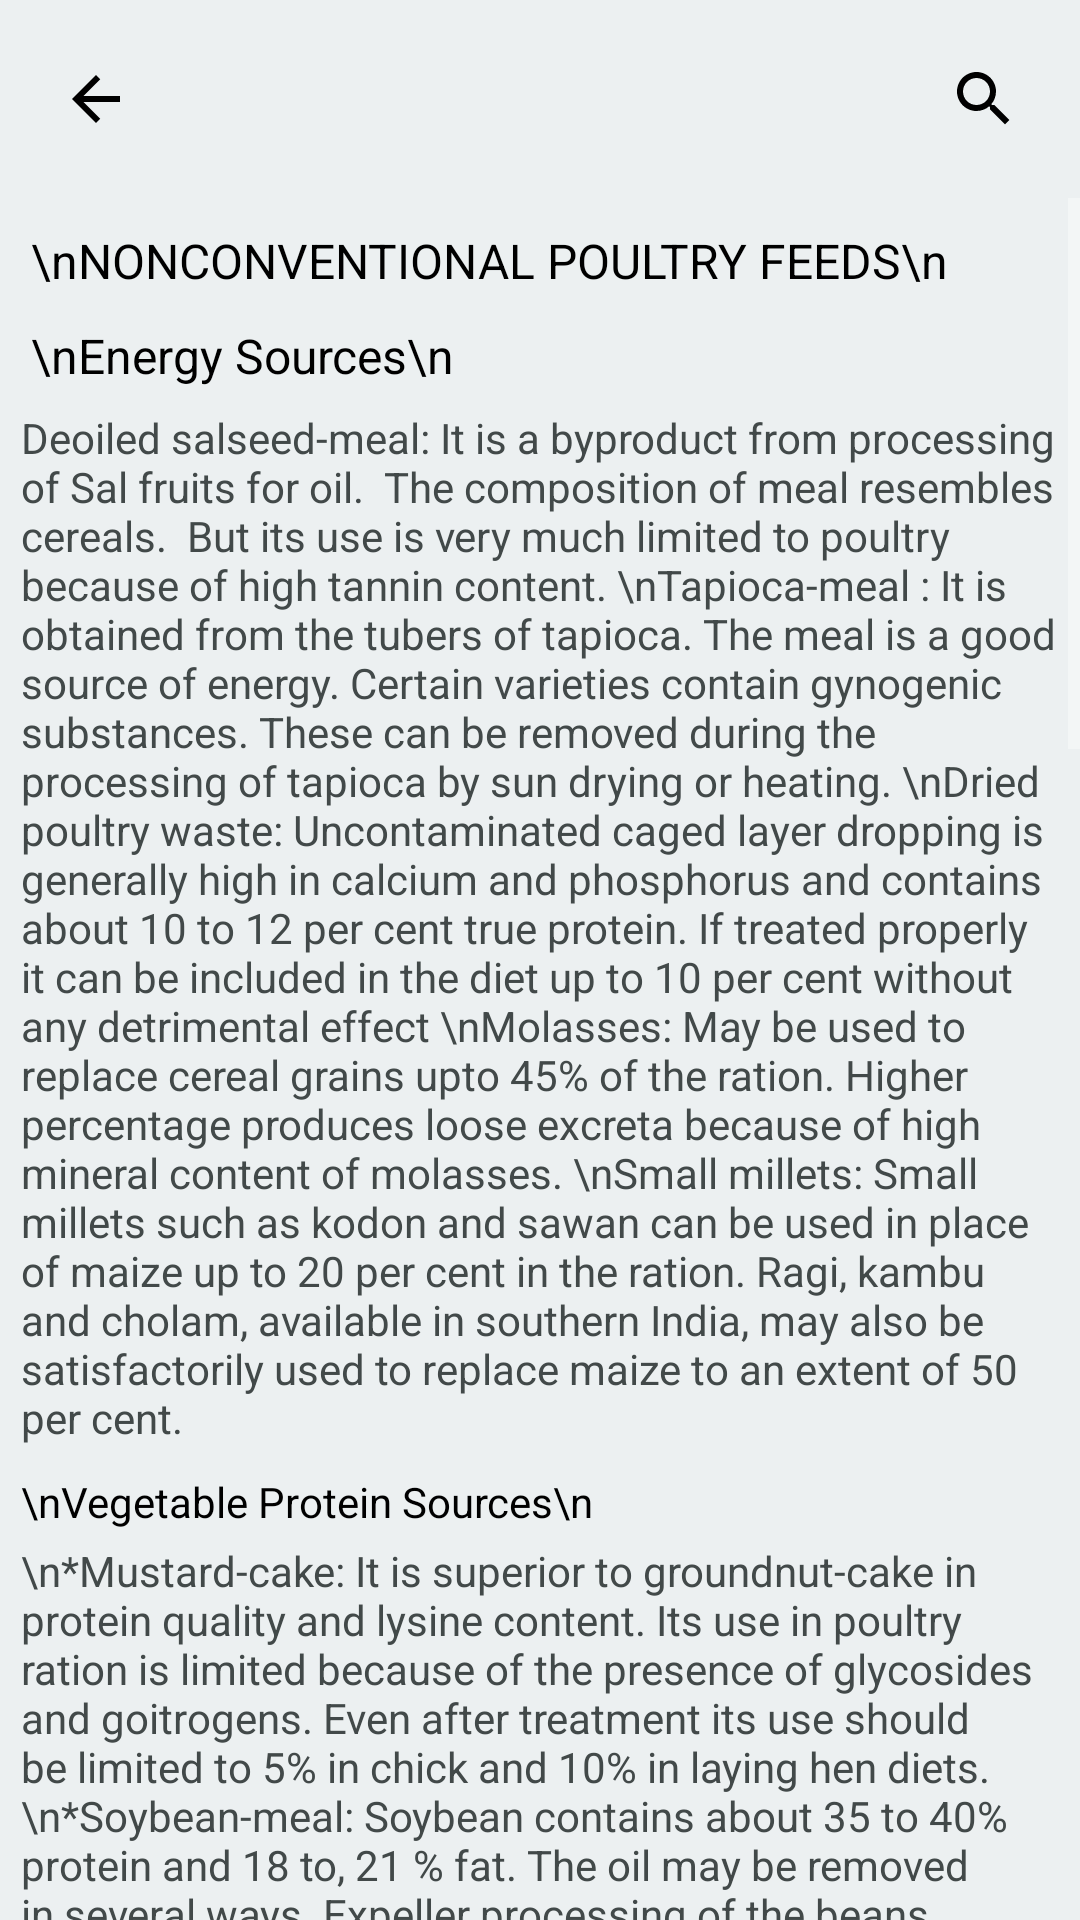

Locate icon controls on the screen. Image size 1080×1920, boxes as (x1,y1,x2,y2).
arrow back: (72,75,120,123)
search: (957,72,1009,124)
